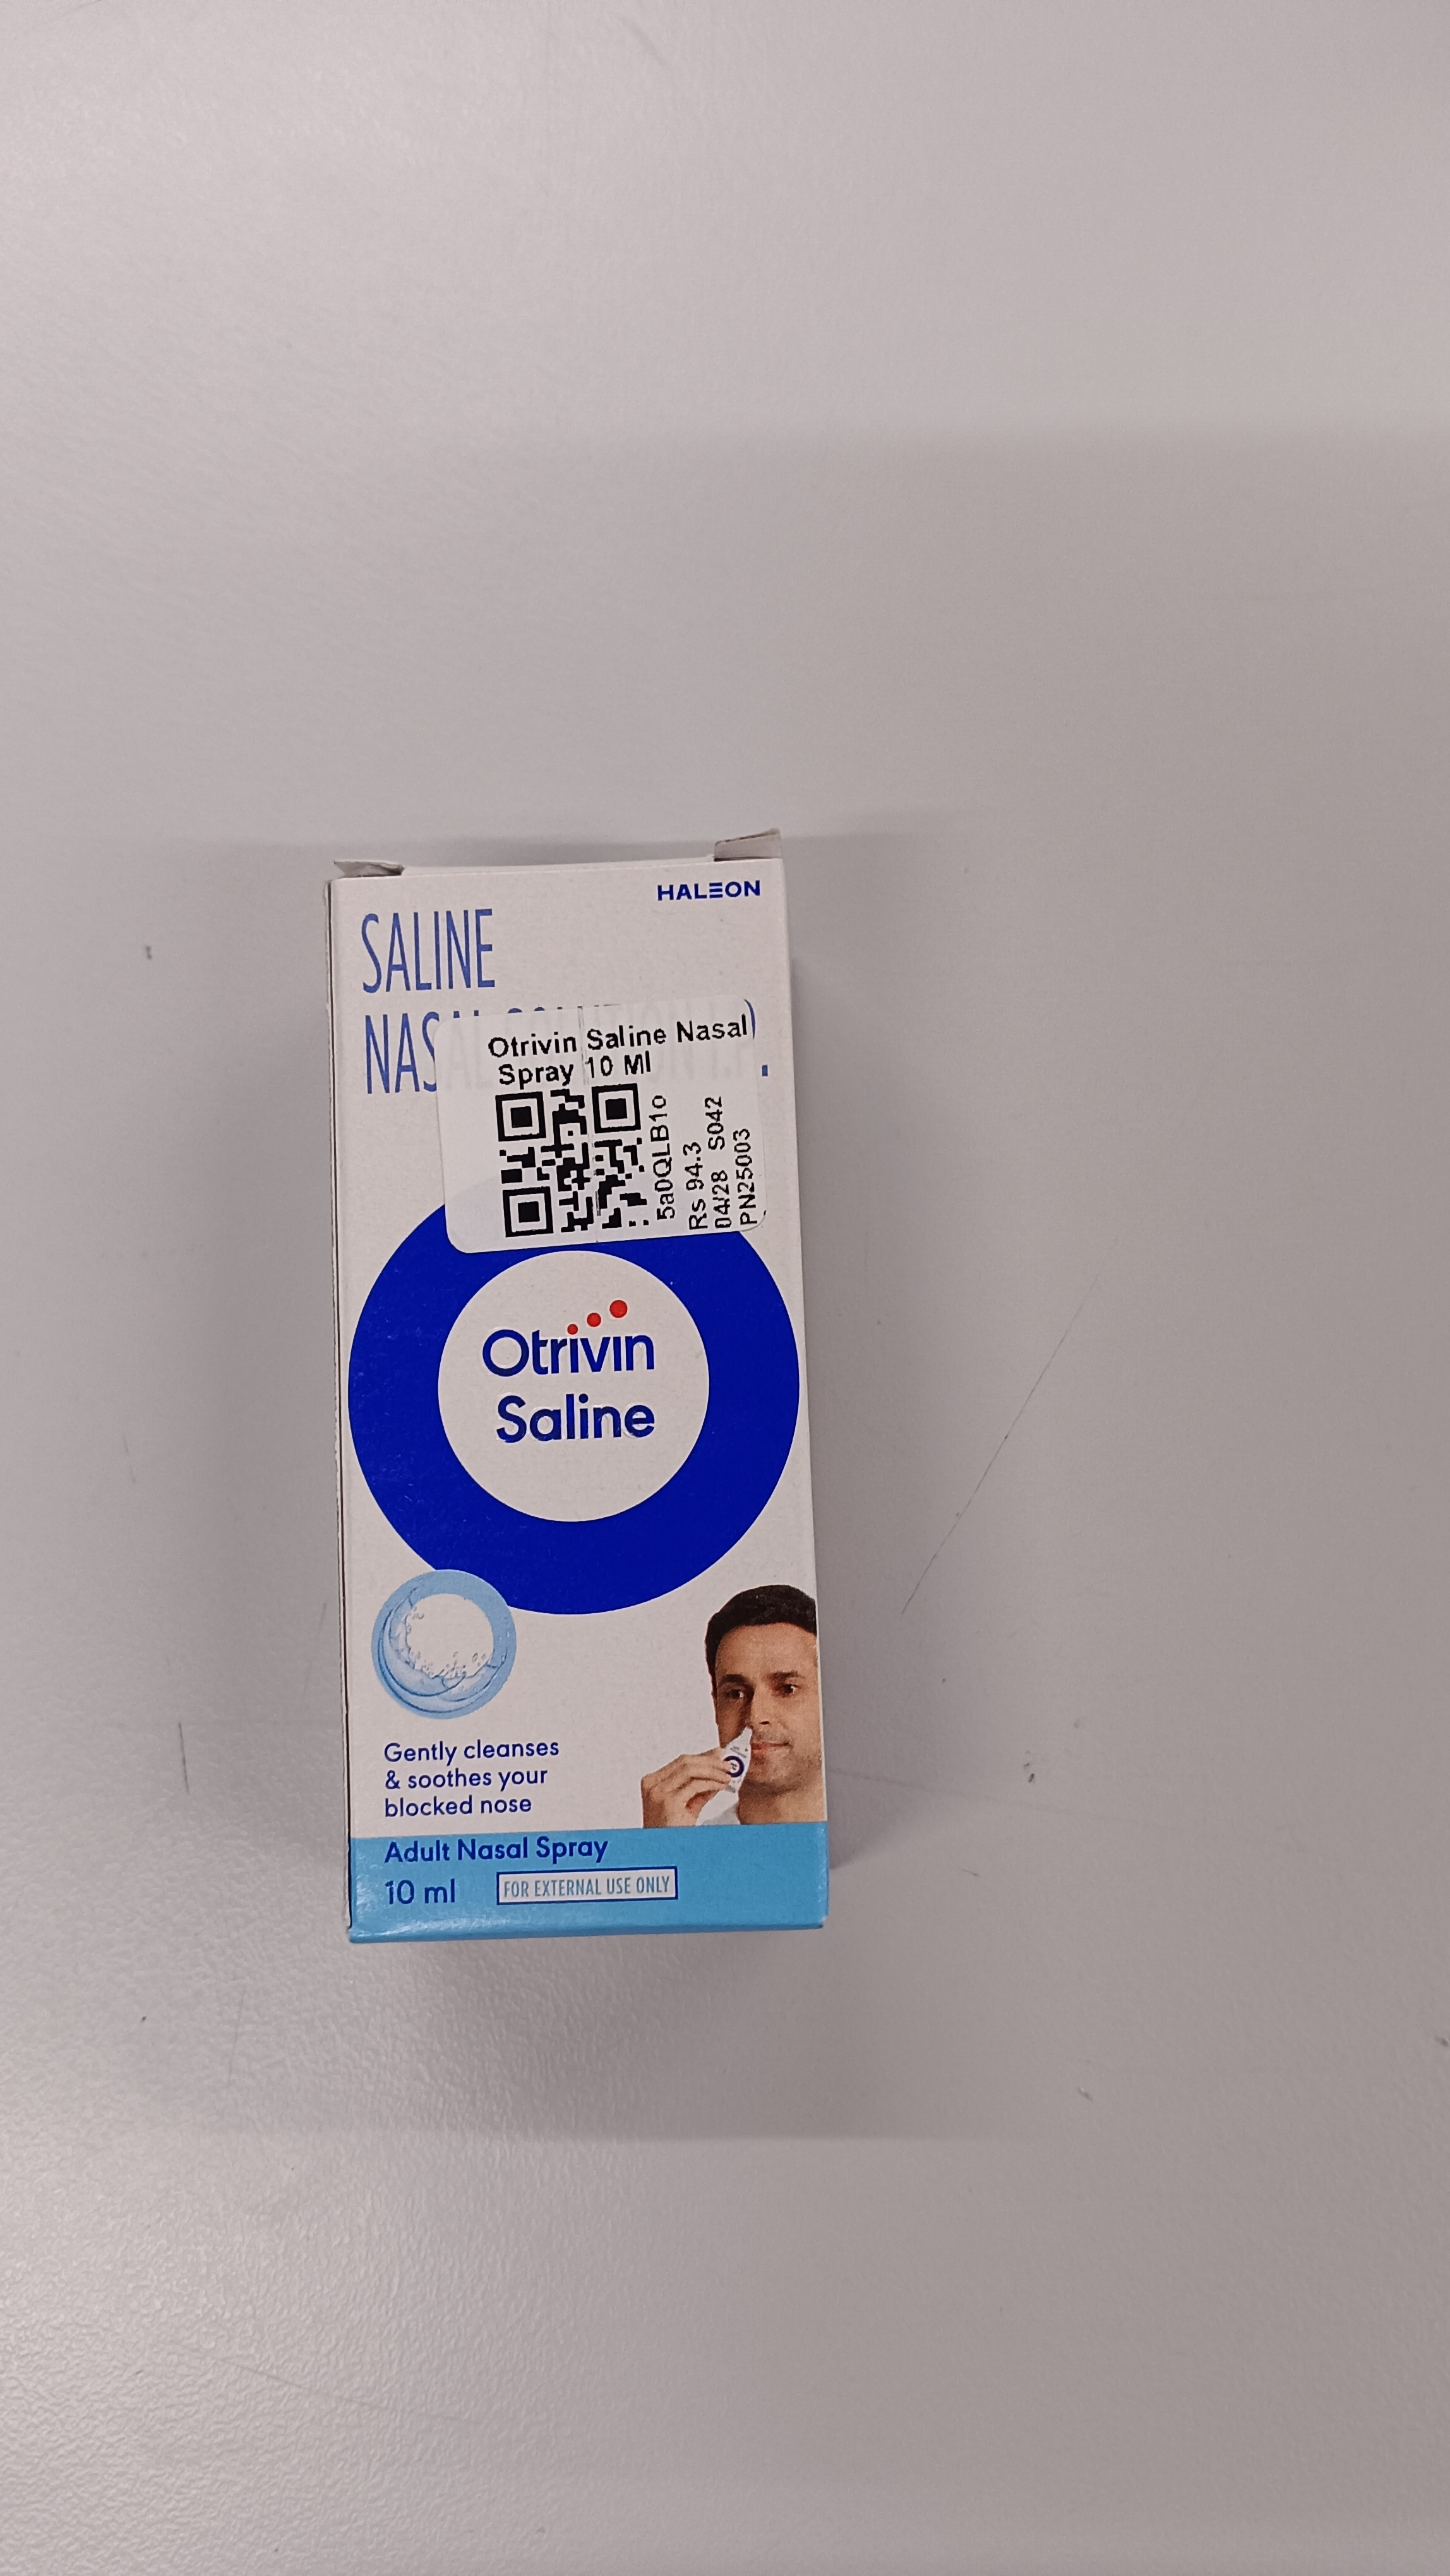QR: (496, 1005, 650, 1159)
